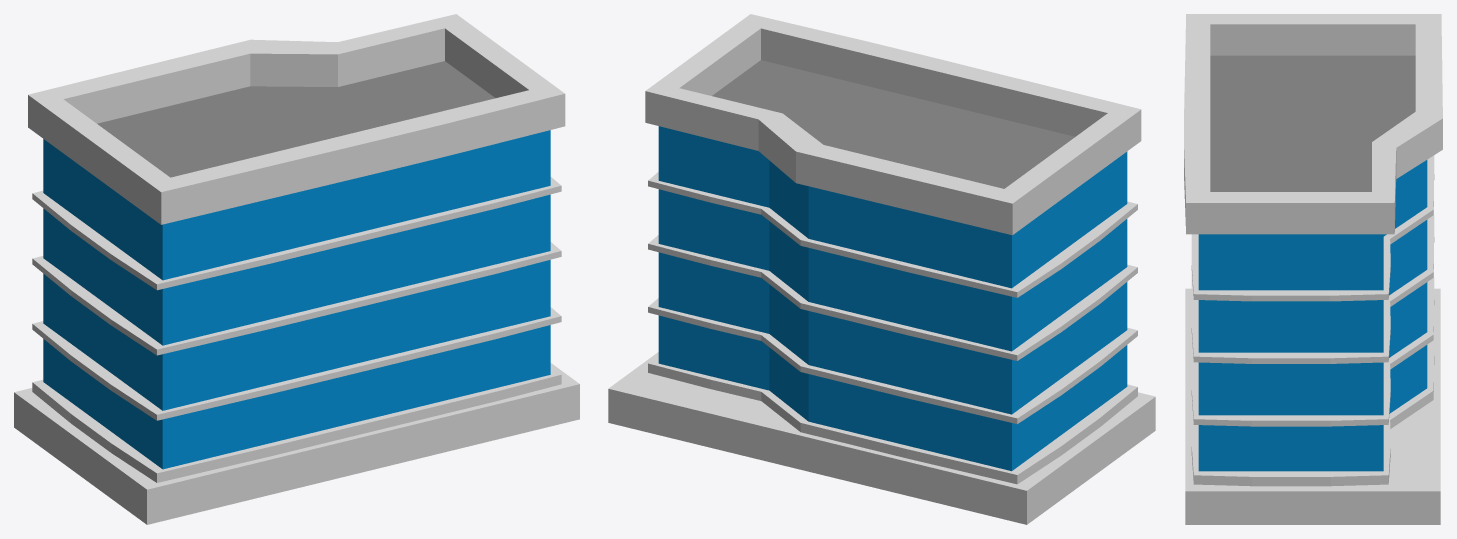
The picture shows the model from 3 angles, left to right: view 1: azimuth 30°, elevation 25°; view 2: azimuth 150°, elevation 25°; view 3: azimuth 270°, elevation 25°; orthographic projection. The views are drawn at different scales.
Parts seen in each view (by area): view 1: Cube.006; view 2: Cube.006; view 3: Cube.006.
Boxes of the visible parts, left/top/right/bottom form: Cube.006: left=14, top=14, right=579, bottom=524; Cube.006: left=608, top=14, right=1155, bottom=524; Cube.006: left=1184, top=14, right=1442, bottom=524.
Bounding box in the file's own units: 375 × 273 × 203.
